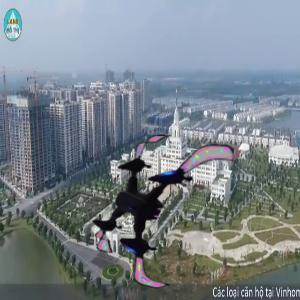drone: (74, 132, 235, 293)
